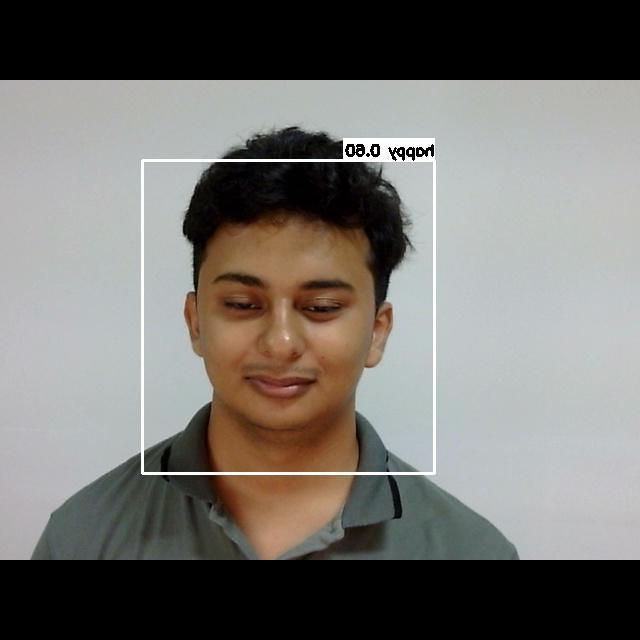Happy: (195, 246, 368, 419)
